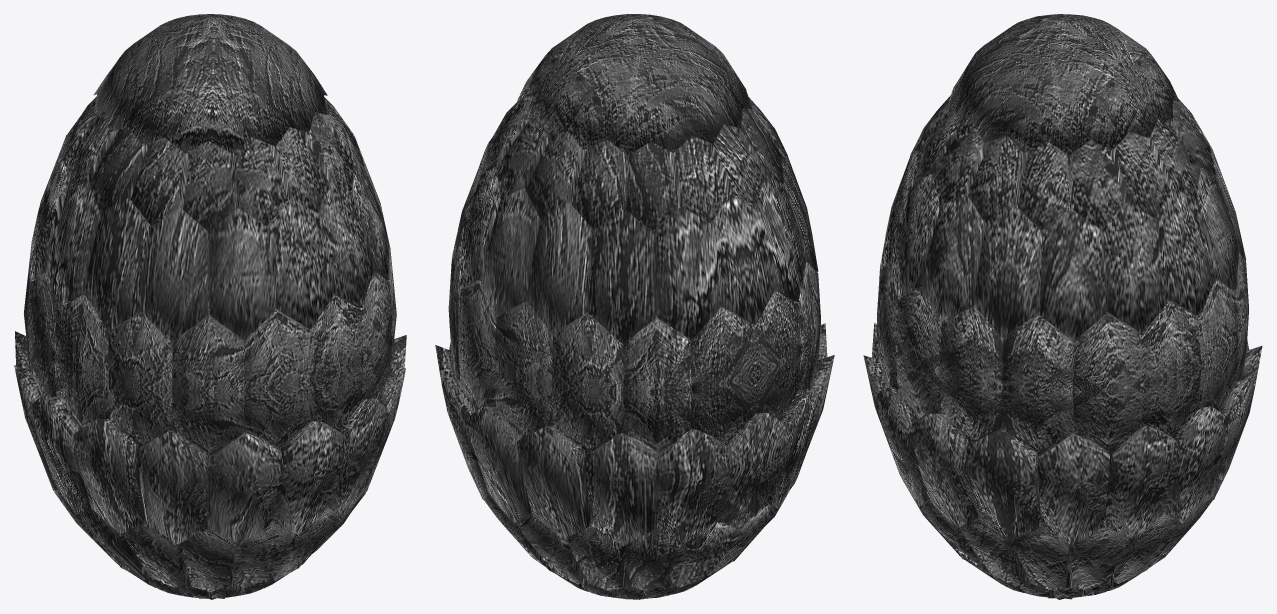
File: uovo2.fbx
3 renders of one model, left to right at view 1: azimuth 30°, elevation 25°; view 2: azimuth 150°, elevation 25°; view 3: azimuth 270°, elevation 25°, orthographic.
Visible parts, largest first — view 1: Dragon Egg; view 2: Dragon Egg; view 3: Dragon Egg.
Boxes of the visible parts, <box> form: Dragon Egg: <box>14,14,406,599</box>; Dragon Egg: <box>435,14,834,599</box>; Dragon Egg: <box>863,14,1262,599</box>.
Bounding box in the file's own units: 69.69 × 111 × 69.68.
